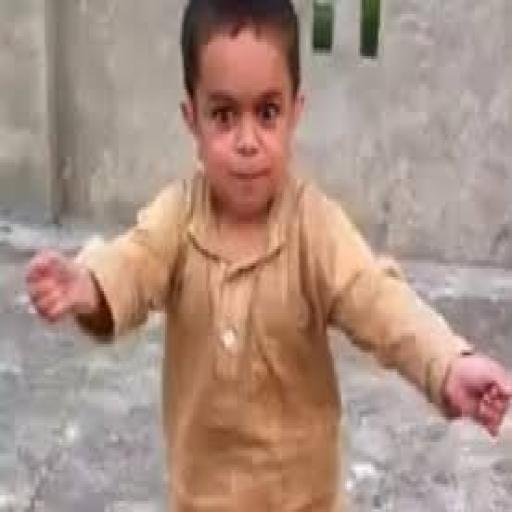dancing: (24, 0, 510, 509)
